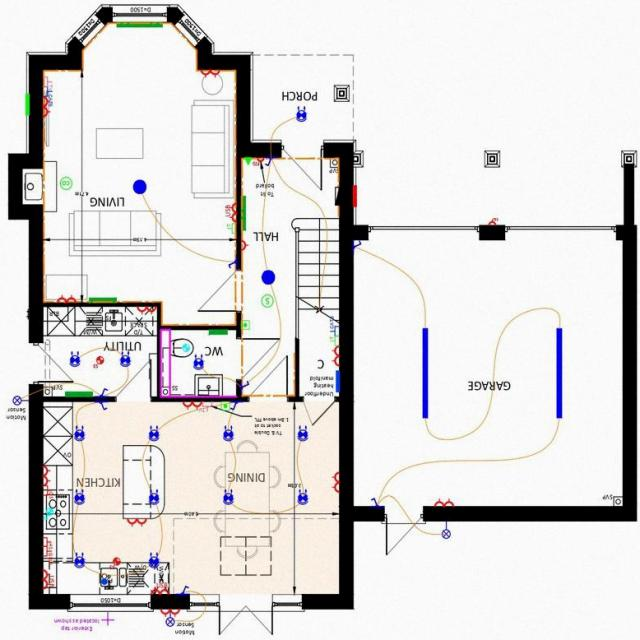BT Entry Point: (246, 158, 253, 167)
Cat 6 Data Socket: (44, 88, 54, 108), (330, 318, 340, 337)
Ceiling Mounted Continuous Extract FanWith Boost Mode Activated By Light Switch: (183, 345, 191, 353)
Ceiling Mounted Continuous Extract FanWith Local Boost Switch: (110, 559, 122, 570), (94, 357, 104, 369)
Co-Ax TV Socket: (44, 77, 54, 91), (200, 402, 212, 413)
Double Socket: (435, 498, 455, 508), (128, 519, 148, 528), (332, 346, 340, 368), (332, 473, 340, 494), (44, 98, 52, 118), (58, 296, 77, 304), (44, 467, 52, 486), (137, 308, 158, 315), (184, 403, 202, 411), (162, 610, 180, 618), (202, 71, 220, 78)
Electric Meter Box: (354, 186, 358, 208)
External Wall Light: (442, 522, 452, 540), (13, 396, 30, 406), (166, 610, 175, 628)
Fused spur: (253, 159, 264, 167)
Gas Meter Box: (26, 95, 31, 116)
Grid Switch: (44, 548, 54, 563)
Hob Switch: (44, 538, 54, 550)
Light Switch: (228, 260, 238, 269), (100, 389, 110, 397), (265, 159, 275, 167), (231, 403, 240, 411), (372, 498, 380, 506), (182, 586, 190, 594), (100, 403, 108, 411), (355, 241, 362, 250), (243, 382, 250, 390)
Low Energy Downlighter: (298, 489, 309, 506), (194, 355, 205, 371), (121, 352, 132, 368), (297, 107, 308, 123), (298, 426, 308, 443), (224, 426, 234, 443), (75, 489, 85, 506), (75, 426, 85, 443), (224, 490, 234, 506), (150, 490, 160, 506), (150, 426, 160, 442), (71, 352, 81, 368), (75, 554, 85, 569), (150, 554, 160, 568)
Low Energy Pendant Light: (262, 270, 276, 286), (134, 180, 147, 195)
Mains Wired Smoke Detector: (262, 296, 275, 308)
Outside Socket: (44, 487, 54, 499), (489, 218, 499, 226)
Outside Tap: (102, 613, 115, 627)
Programmable Room Thermostat: (243, 321, 251, 331), (222, 403, 230, 412)
Radiator: (118, 23, 164, 28), (90, 298, 118, 304), (66, 392, 94, 398), (244, 198, 248, 231), (210, 330, 228, 336)
Recirculating Extractor Fan: (45, 509, 55, 521)
Single Socket: (242, 241, 250, 251)
Telephone Socket: (330, 337, 340, 347)
Twin LED Strip Light: (422, 329, 428, 420), (557, 329, 563, 420)
USB Double Socket: (225, 204, 238, 223), (44, 570, 56, 590), (152, 583, 170, 596)
Underfloor Heating Manifold: (336, 371, 342, 393)
Water Entry Position: (103, 580, 108, 585)
